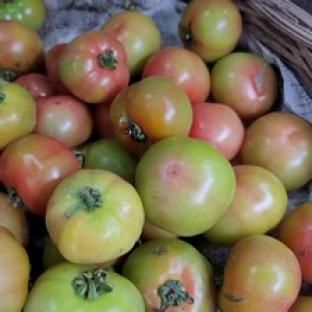Tomato: (136, 137, 235, 236), (45, 169, 144, 263), (204, 165, 288, 245), (123, 239, 215, 311), (0, 134, 80, 215), (218, 234, 300, 311), (111, 77, 192, 154), (24, 262, 144, 311), (240, 112, 311, 190), (59, 30, 129, 104), (211, 52, 278, 121), (101, 10, 161, 76), (143, 46, 210, 103), (190, 102, 245, 160), (34, 95, 93, 149), (278, 201, 311, 282), (0, 20, 44, 79), (0, 78, 36, 150), (0, 226, 30, 311), (83, 138, 137, 185), (0, 191, 29, 247), (45, 44, 71, 94), (14, 72, 55, 100), (41, 236, 65, 272), (141, 219, 178, 242), (91, 104, 114, 137), (289, 296, 311, 311)
